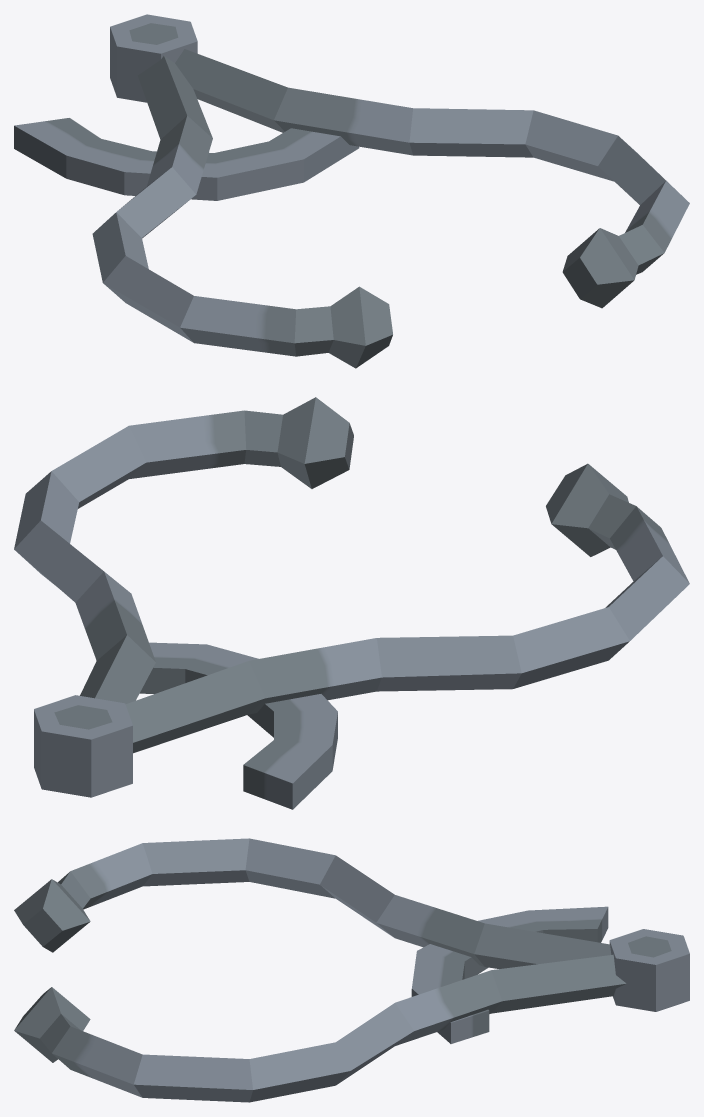
The model's file is SM_Prop_Caliper_01.fbx.
3 renders of one model, top to bottom at view 1: azimuth 30°, elevation 25°; view 2: azimuth 150°, elevation 25°; view 3: azimuth 270°, elevation 25°, orthographic. The views are drawn at different scales.
Parts seen in each view (by area): view 1: SM_Prop_Caliper_01; view 2: SM_Prop_Caliper_01; view 3: SM_Prop_Caliper_01.
Part boxes in pixels (x1=…): SM_Prop_Caliper_01: x1=14, y1=14, x2=689, y2=368; SM_Prop_Caliper_01: x1=14, y1=397, x2=689, y2=809; SM_Prop_Caliper_01: x1=14, y1=838, x2=689, y2=1102.
Bounding box in the file's own units: 41.05 × 6.01 × 49.
